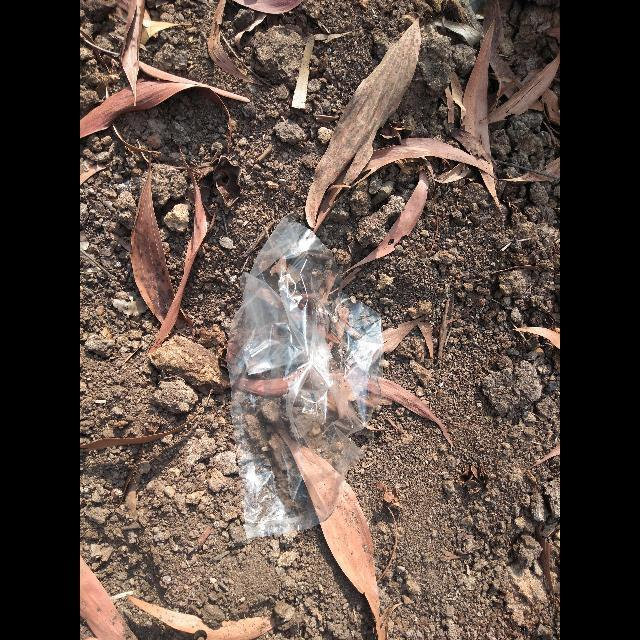Plastic: (228, 216, 384, 538)
